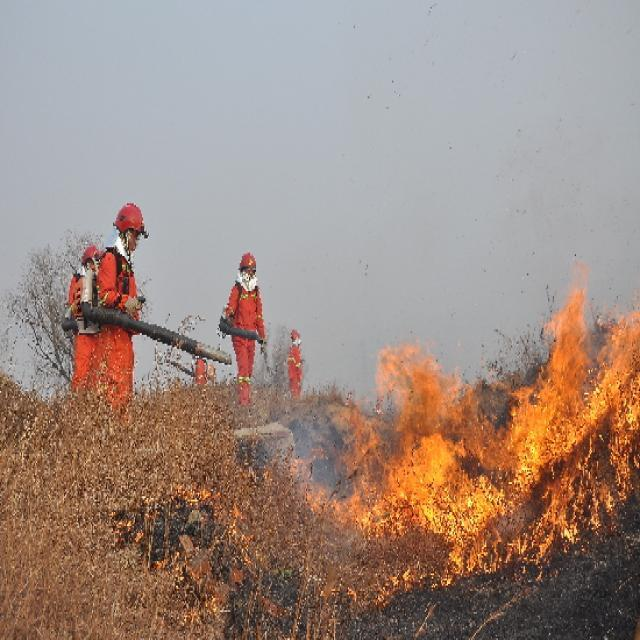Fire: (294, 285, 640, 605)
